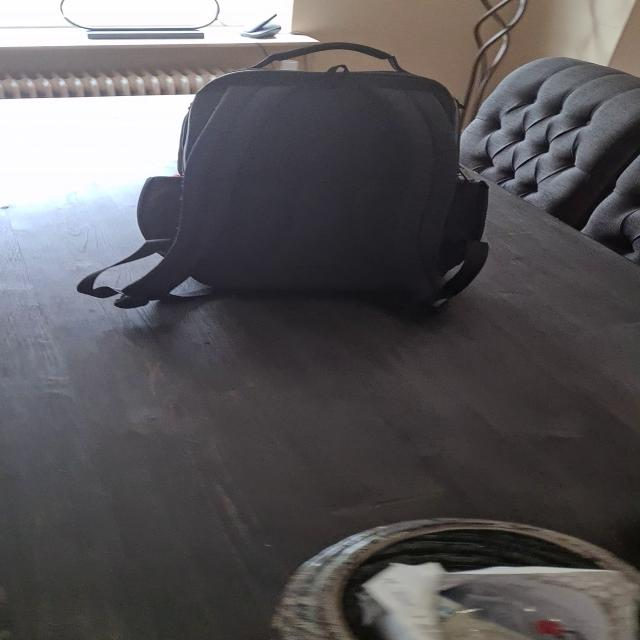backpack: (112, 30, 495, 324)
